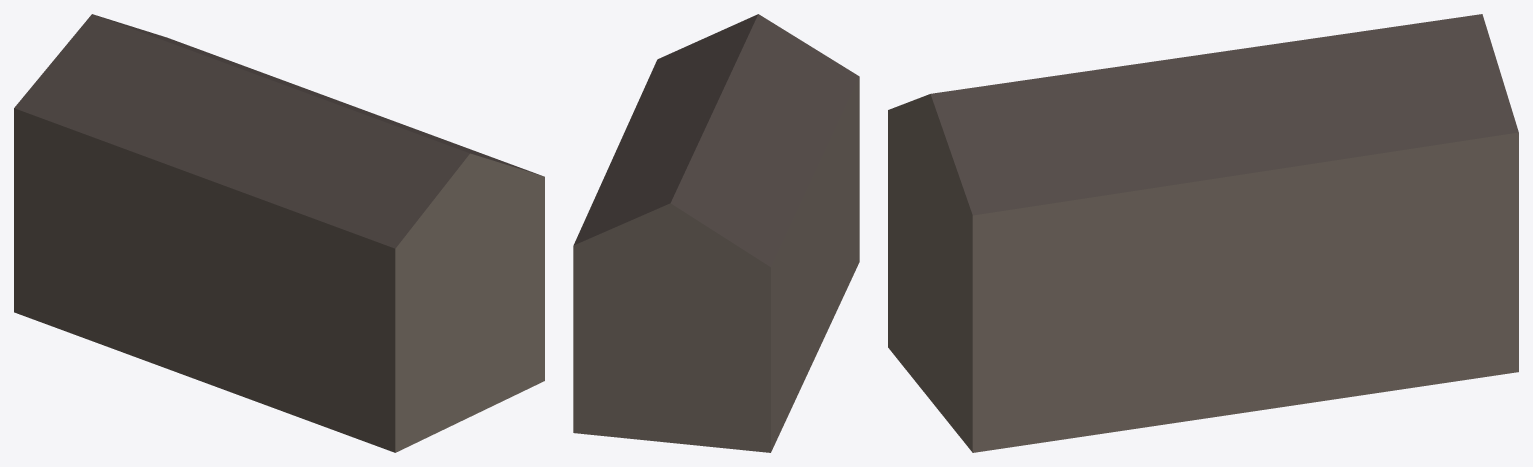
3 views of the same model, side by side, from view 1: azimuth 30°, elevation 25°; view 2: azimuth 150°, elevation 25°; view 3: azimuth 270°, elevation 25° (orthographic). The views are drawn at different scales.
Visible parts, largest first — view 1: HP-w1198840865; view 2: HP-w1198840865; view 3: HP-w1198840865.
Part boxes in pixels (<box>): HP-w1198840865: <box>14,14,544,452</box>; HP-w1198840865: <box>573,14,859,452</box>; HP-w1198840865: <box>888,14,1518,452</box>.
Bounding box in the file's own units: 10.08 × 7.74 × 14.45.
